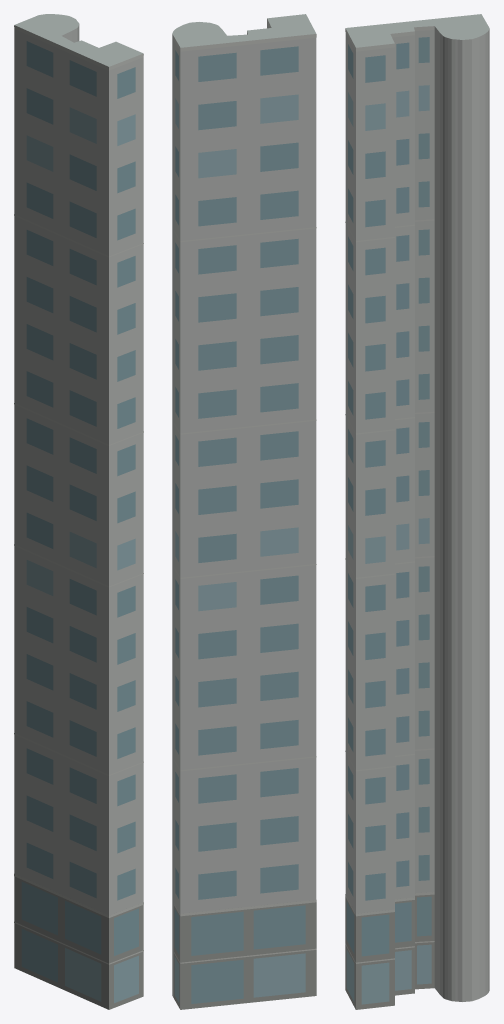
The model's file is survey-upis-32651180.glb.
3 views of the same model, side by side, from view 1: azimuth 90°, elevation 25°; view 2: azimuth 150°, elevation 25°; view 3: azimuth 330°, elevation 25° (orthographic). The views are drawn at different scales.
Parts seen in each view (by area): view 1: survey-upis-32651180.tmp; view 2: survey-upis-32651180.tmp; view 3: survey-upis-32651180.tmp.
Boxes of the visible parts, x1,y1,x2,y2 form: survey-upis-32651180.tmp: (14, 14, 143, 1009); survey-upis-32651180.tmp: (172, 14, 316, 1009); survey-upis-32651180.tmp: (345, 14, 489, 1009).
Size of the model in its own units: 7.35 by 61 by 7.61.
